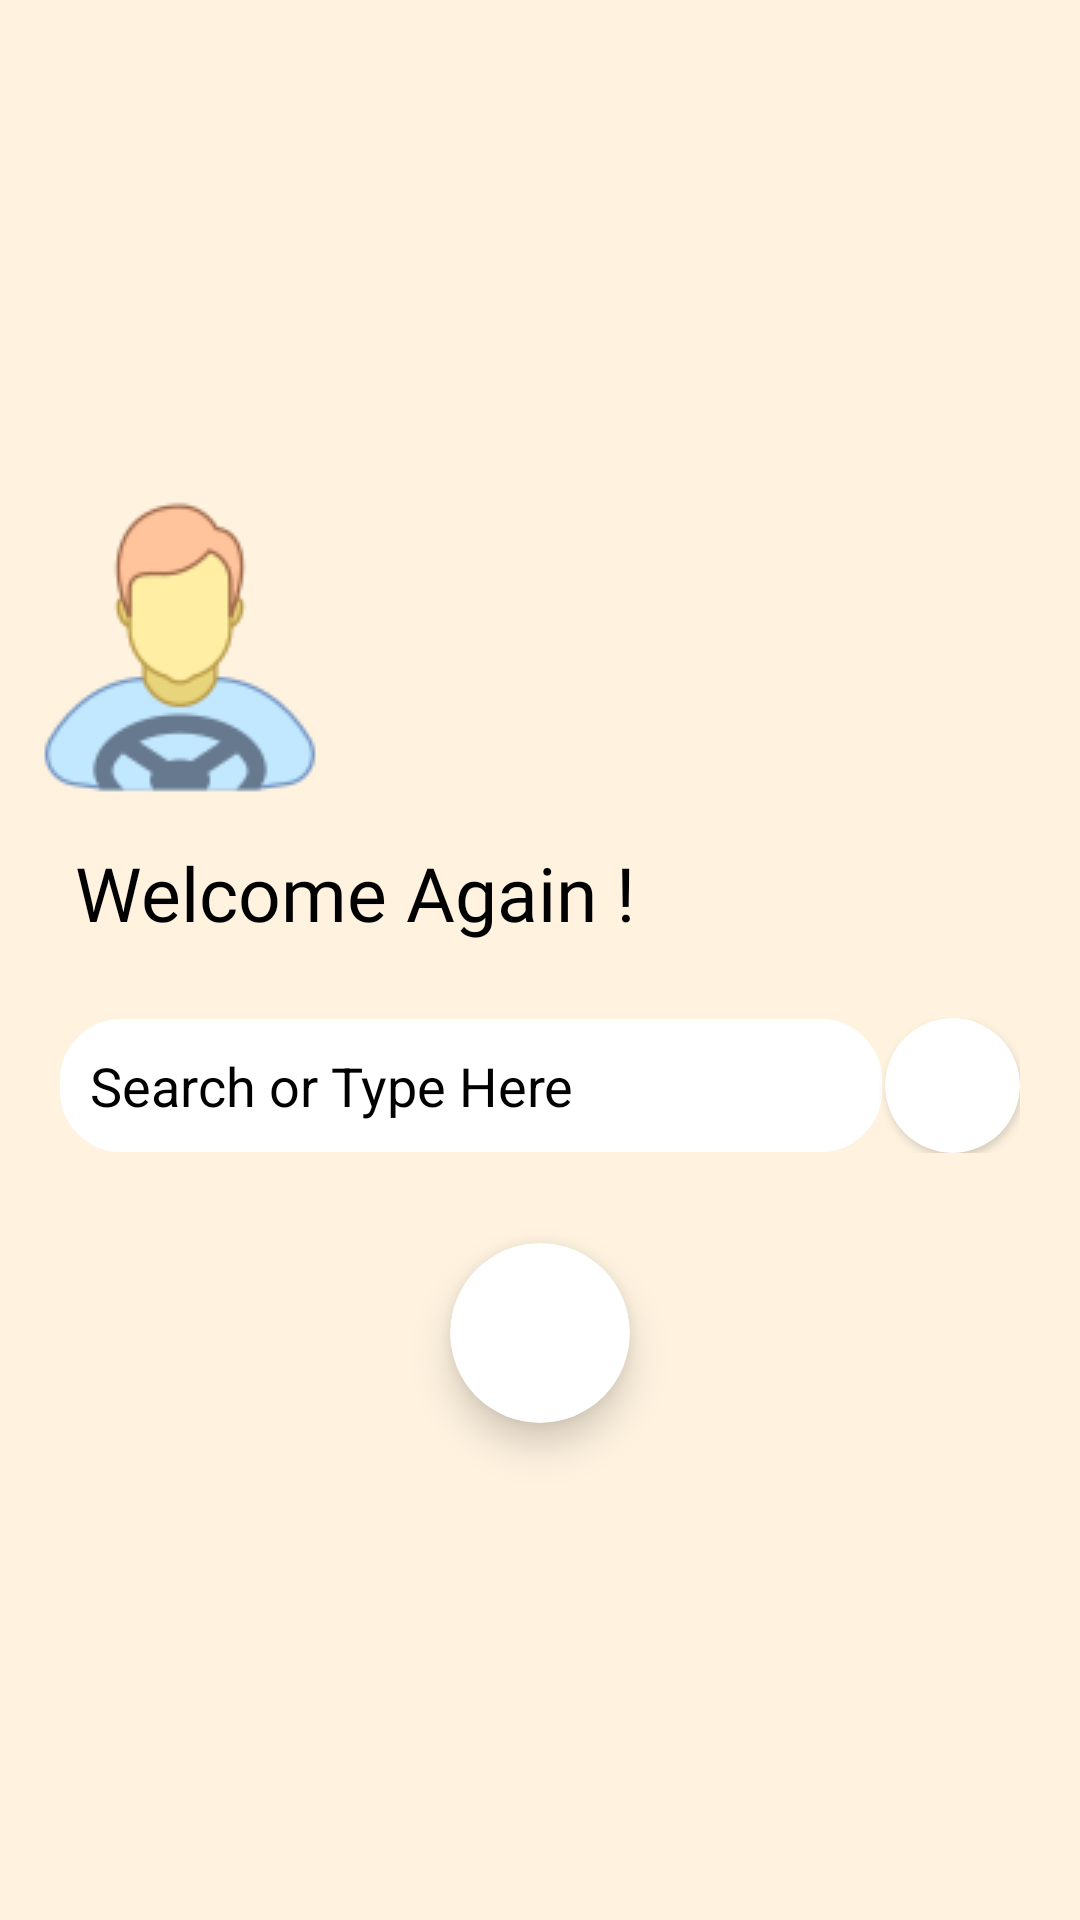

Point at icon controls on the screen. Image size 1080w x 1920h, points as [x,y].
driver: [180,647]
